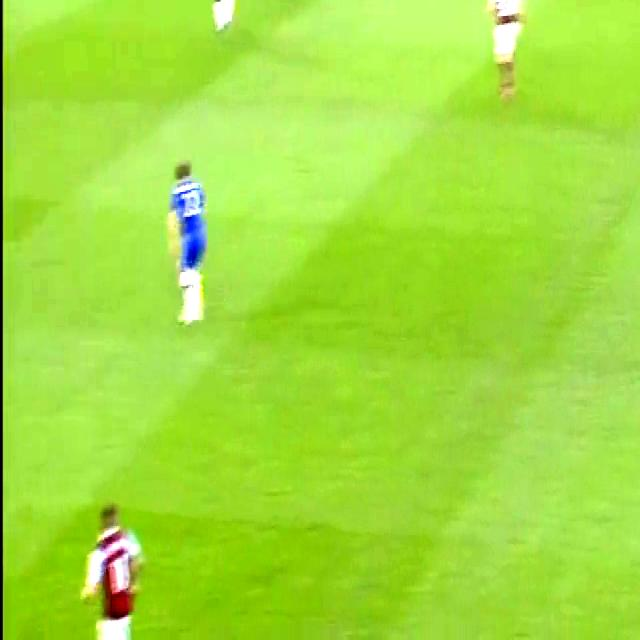soccer-player: (76, 477, 156, 635), (160, 142, 214, 334), (472, 0, 529, 110), (203, 0, 253, 43)
